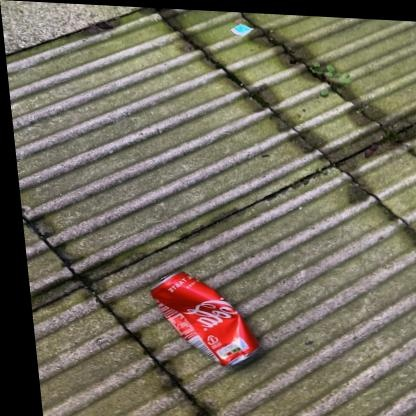trash: (151, 272, 258, 365)
